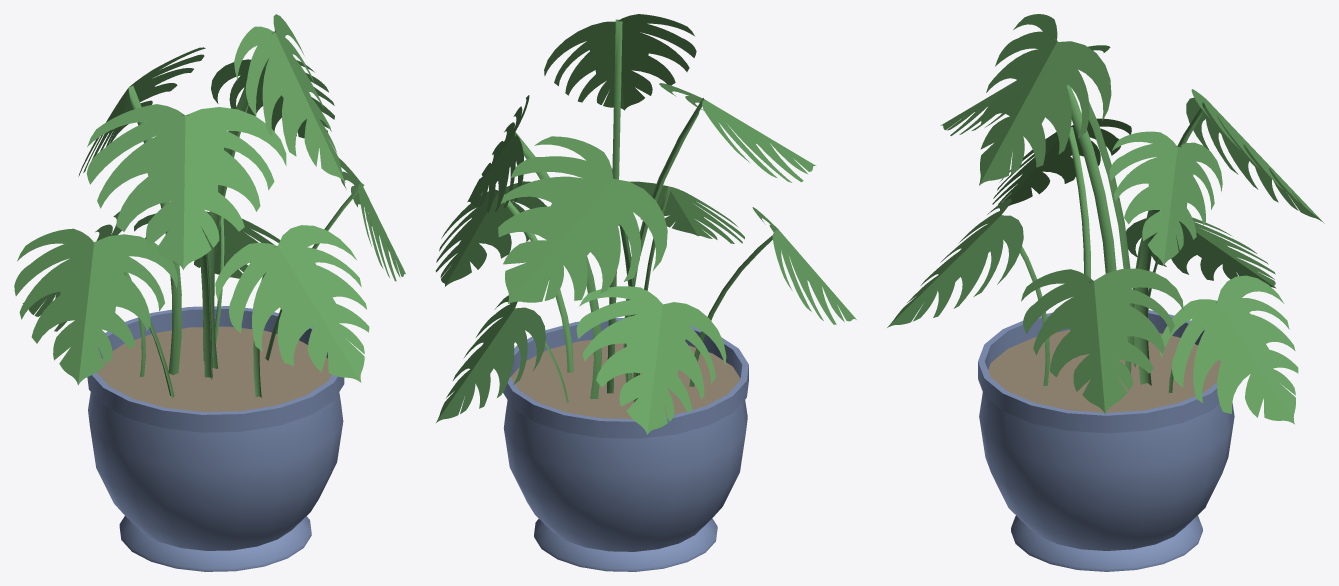
Rendered from pianta.glb.
3 renders of one model, left to right at view 1: azimuth 30°, elevation 25°; view 2: azimuth 150°, elevation 25°; view 3: azimuth 270°, elevation 25°, orthographic. The views are drawn at different scales.
Parts seen in each view (by area): view 1: Geom3D (×27); view 2: Geom3D (×29); view 3: Geom3D (×31).
Boxes of the visible parts, x1,y1,x2,y2 form: Geom3D (×27): (14,14,405,571); Geom3D (×29): (435,14,856,571); Geom3D (×31): (887,14,1324,571).
Bounding box in the file's own units: 0.761 × 0.9683 × 0.7426.
